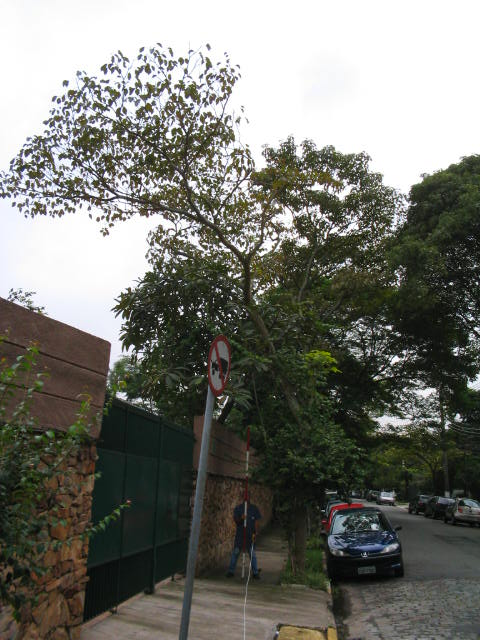crown: (4, 30, 459, 349)
stem: (279, 452, 321, 583)
stick: (238, 429, 257, 580)
tree: (1, 29, 461, 583)
